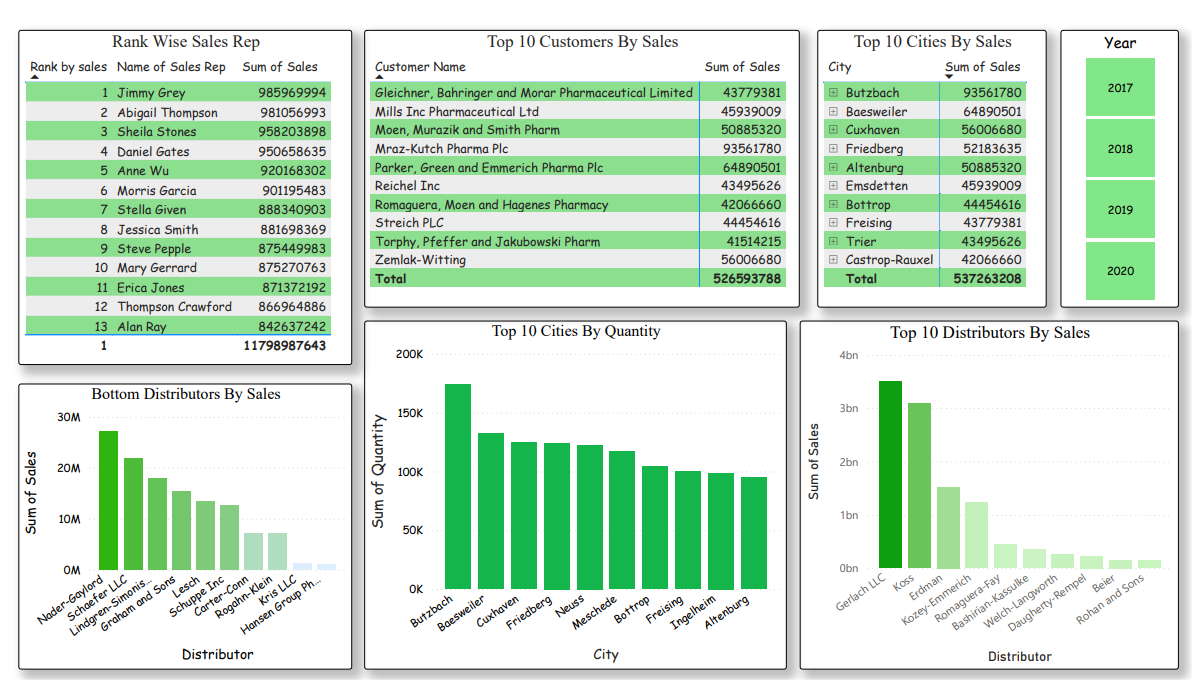

The page's visual inventory and layout, read from the dashboard file:
{"tool":"powerbi","page":{"name":"Page 3","canvas":[1280,720],"ordinal":2},"visuals":[{"type":"clusteredColumnChart","title":"Top 10 Distributors By Sales","fields":{"Category":["pharma-data.Distributor"],"Y":["pharma-data.Sales"]},"box":[856.5,332.4,409.4,376.7],"z":0},{"type":"clusteredColumnChart","title":"Bottom Distributors By Sales","fields":{"Y":["pharma-data.Sales"],"Category":["pharma-data.Distributor"]},"box":[11.5,399.6,360.3,309.5],"z":1000},{"type":"columnChart","title":"Top 10 Cities By Quantity","fields":{"Category":["pharma-data.City"],"Y":["pharma-data.Quantity"]},"box":[384.8,332.4,456.9,376.7],"z":2000},{"type":"pivotTable","title":"Top 10 Customers By Sales","fields":{"Rows":["pharma-data.Customer Name"],"Values":["pharma-data.Sales"]},"box":[384.8,18,471.6,299.7],"z":3000},{"type":"pivotTable","title":"Top 10 Cities By Sales","fields":{"Values":["pharma-data.Sales"],"Rows":["pharma-data.City","pharma-data.Sales"]},"box":[874.5,18,248.9,299.7],"z":4000},{"type":"tableEx","title":"Rank Wise Sales Rep","fields":{"Values":["Mesures table.Rank by sales","pharma-data.Name of Sales Rep","pharma-data.Sales"]},"box":[11.5,18,360.3,361.9],"z":5000},{"type":"slicer","title":"Year","fields":{"Values":["pharma-data.Year"]},"box":[1138.2,18,127.7,299.7],"z":6000}]}

Visuals, with their boxes in screenshot pixels (x1, y1, x2, y2), scaled from the page's 1280x720 canvas onto the 1202x691 screenshot:
"Top 10 Distributors By Sales" clusteredColumnChart: crop(804, 319, 1189, 681)
"Bottom Distributors By Sales" clusteredColumnChart: crop(11, 384, 349, 681)
"Top 10 Cities By Quantity" columnChart: crop(361, 319, 790, 681)
"Top 10 Customers By Sales" pivotTable: crop(361, 17, 804, 305)
"Top 10 Cities By Sales" pivotTable: crop(821, 17, 1055, 305)
"Rank Wise Sales Rep" tableEx: crop(11, 17, 349, 365)
"Year" slicer: crop(1069, 17, 1189, 305)
